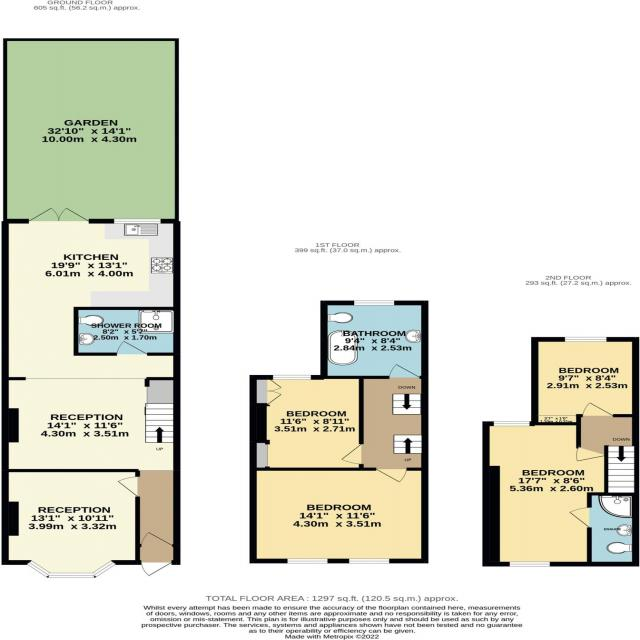DOOR: (140, 560, 173, 577), (116, 475, 140, 498), (575, 445, 607, 462), (115, 340, 149, 356), (568, 507, 592, 529), (340, 443, 364, 465), (388, 363, 421, 379), (374, 468, 408, 483), (140, 532, 174, 547), (581, 402, 614, 417)
ROOM: (1, 206, 181, 472), (482, 421, 608, 567), (249, 467, 429, 564), (1, 469, 141, 578), (249, 374, 364, 471), (530, 337, 640, 426)
WINDOW: (26, 560, 117, 579), (113, 218, 162, 224), (286, 558, 329, 564), (509, 561, 551, 567), (348, 558, 390, 564), (353, 300, 395, 306), (493, 421, 531, 427), (564, 337, 607, 342), (272, 375, 312, 380)
